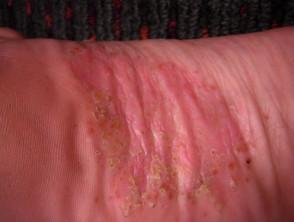Eczema: (118, 170, 152, 207), (92, 181, 132, 211), (91, 147, 123, 172), (95, 129, 131, 151), (208, 152, 239, 177), (191, 176, 217, 204), (146, 127, 172, 155), (140, 151, 166, 178), (163, 116, 191, 140), (172, 136, 203, 157), (97, 39, 123, 63), (125, 119, 151, 143), (152, 180, 175, 207), (70, 71, 98, 92), (203, 79, 227, 103), (243, 154, 258, 192), (233, 137, 260, 158), (95, 100, 118, 124), (151, 55, 173, 79), (172, 157, 202, 172), (174, 184, 193, 206), (167, 60, 192, 76), (266, 189, 286, 209), (245, 121, 264, 142), (112, 207, 148, 218), (129, 49, 152, 66), (102, 66, 124, 83), (164, 149, 180, 171), (80, 41, 97, 61), (224, 172, 241, 189), (256, 110, 274, 125), (65, 51, 81, 67), (188, 67, 215, 76), (197, 209, 212, 219)
